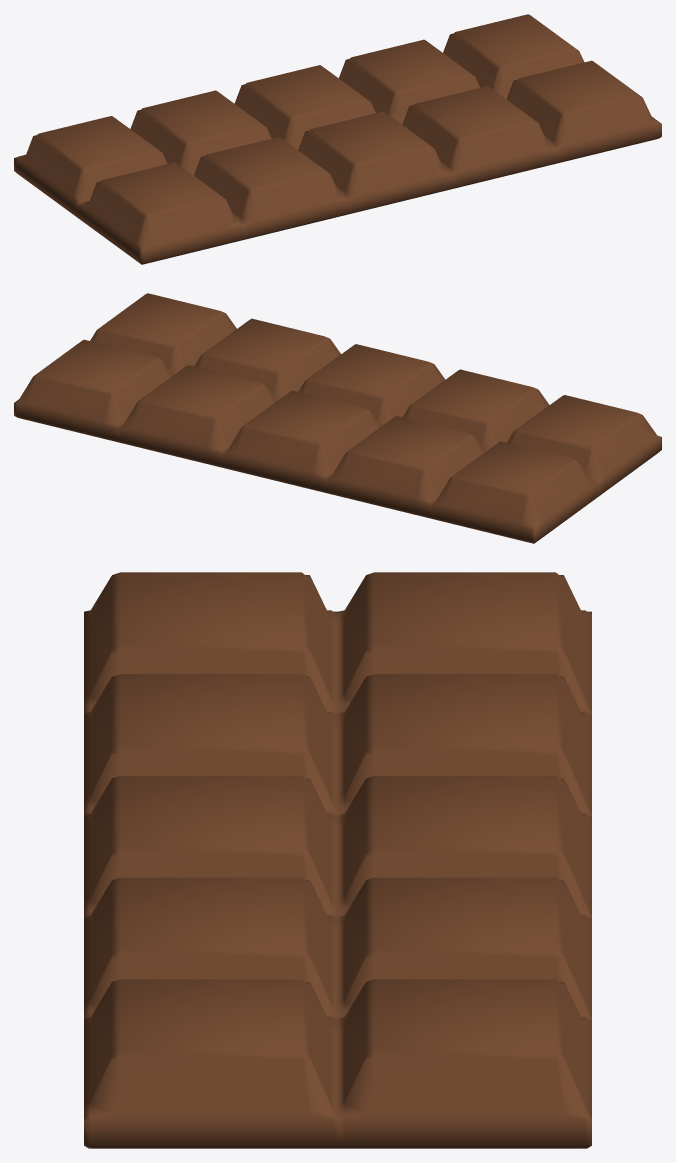
The picture shows the model from 3 angles, top to bottom: view 1: azimuth 30°, elevation 25°; view 2: azimuth 150°, elevation 25°; view 3: azimuth 270°, elevation 25°; orthographic projection. The views are drawn at different scales.
Parts seen in each view (by area): view 1: NEW323_Chocolate_bar_LOD1; view 2: NEW323_Chocolate_bar_LOD1; view 3: NEW323_Chocolate_bar_LOD1.
Boxes of the visible parts, x1,y1,x2,y2 form: NEW323_Chocolate_bar_LOD1: [14, 14, 661, 264]; NEW323_Chocolate_bar_LOD1: [14, 293, 661, 543]; NEW323_Chocolate_bar_LOD1: [84, 572, 591, 1148].
Size of the model in its own units: 0.18 by 0.014 by 0.076.
